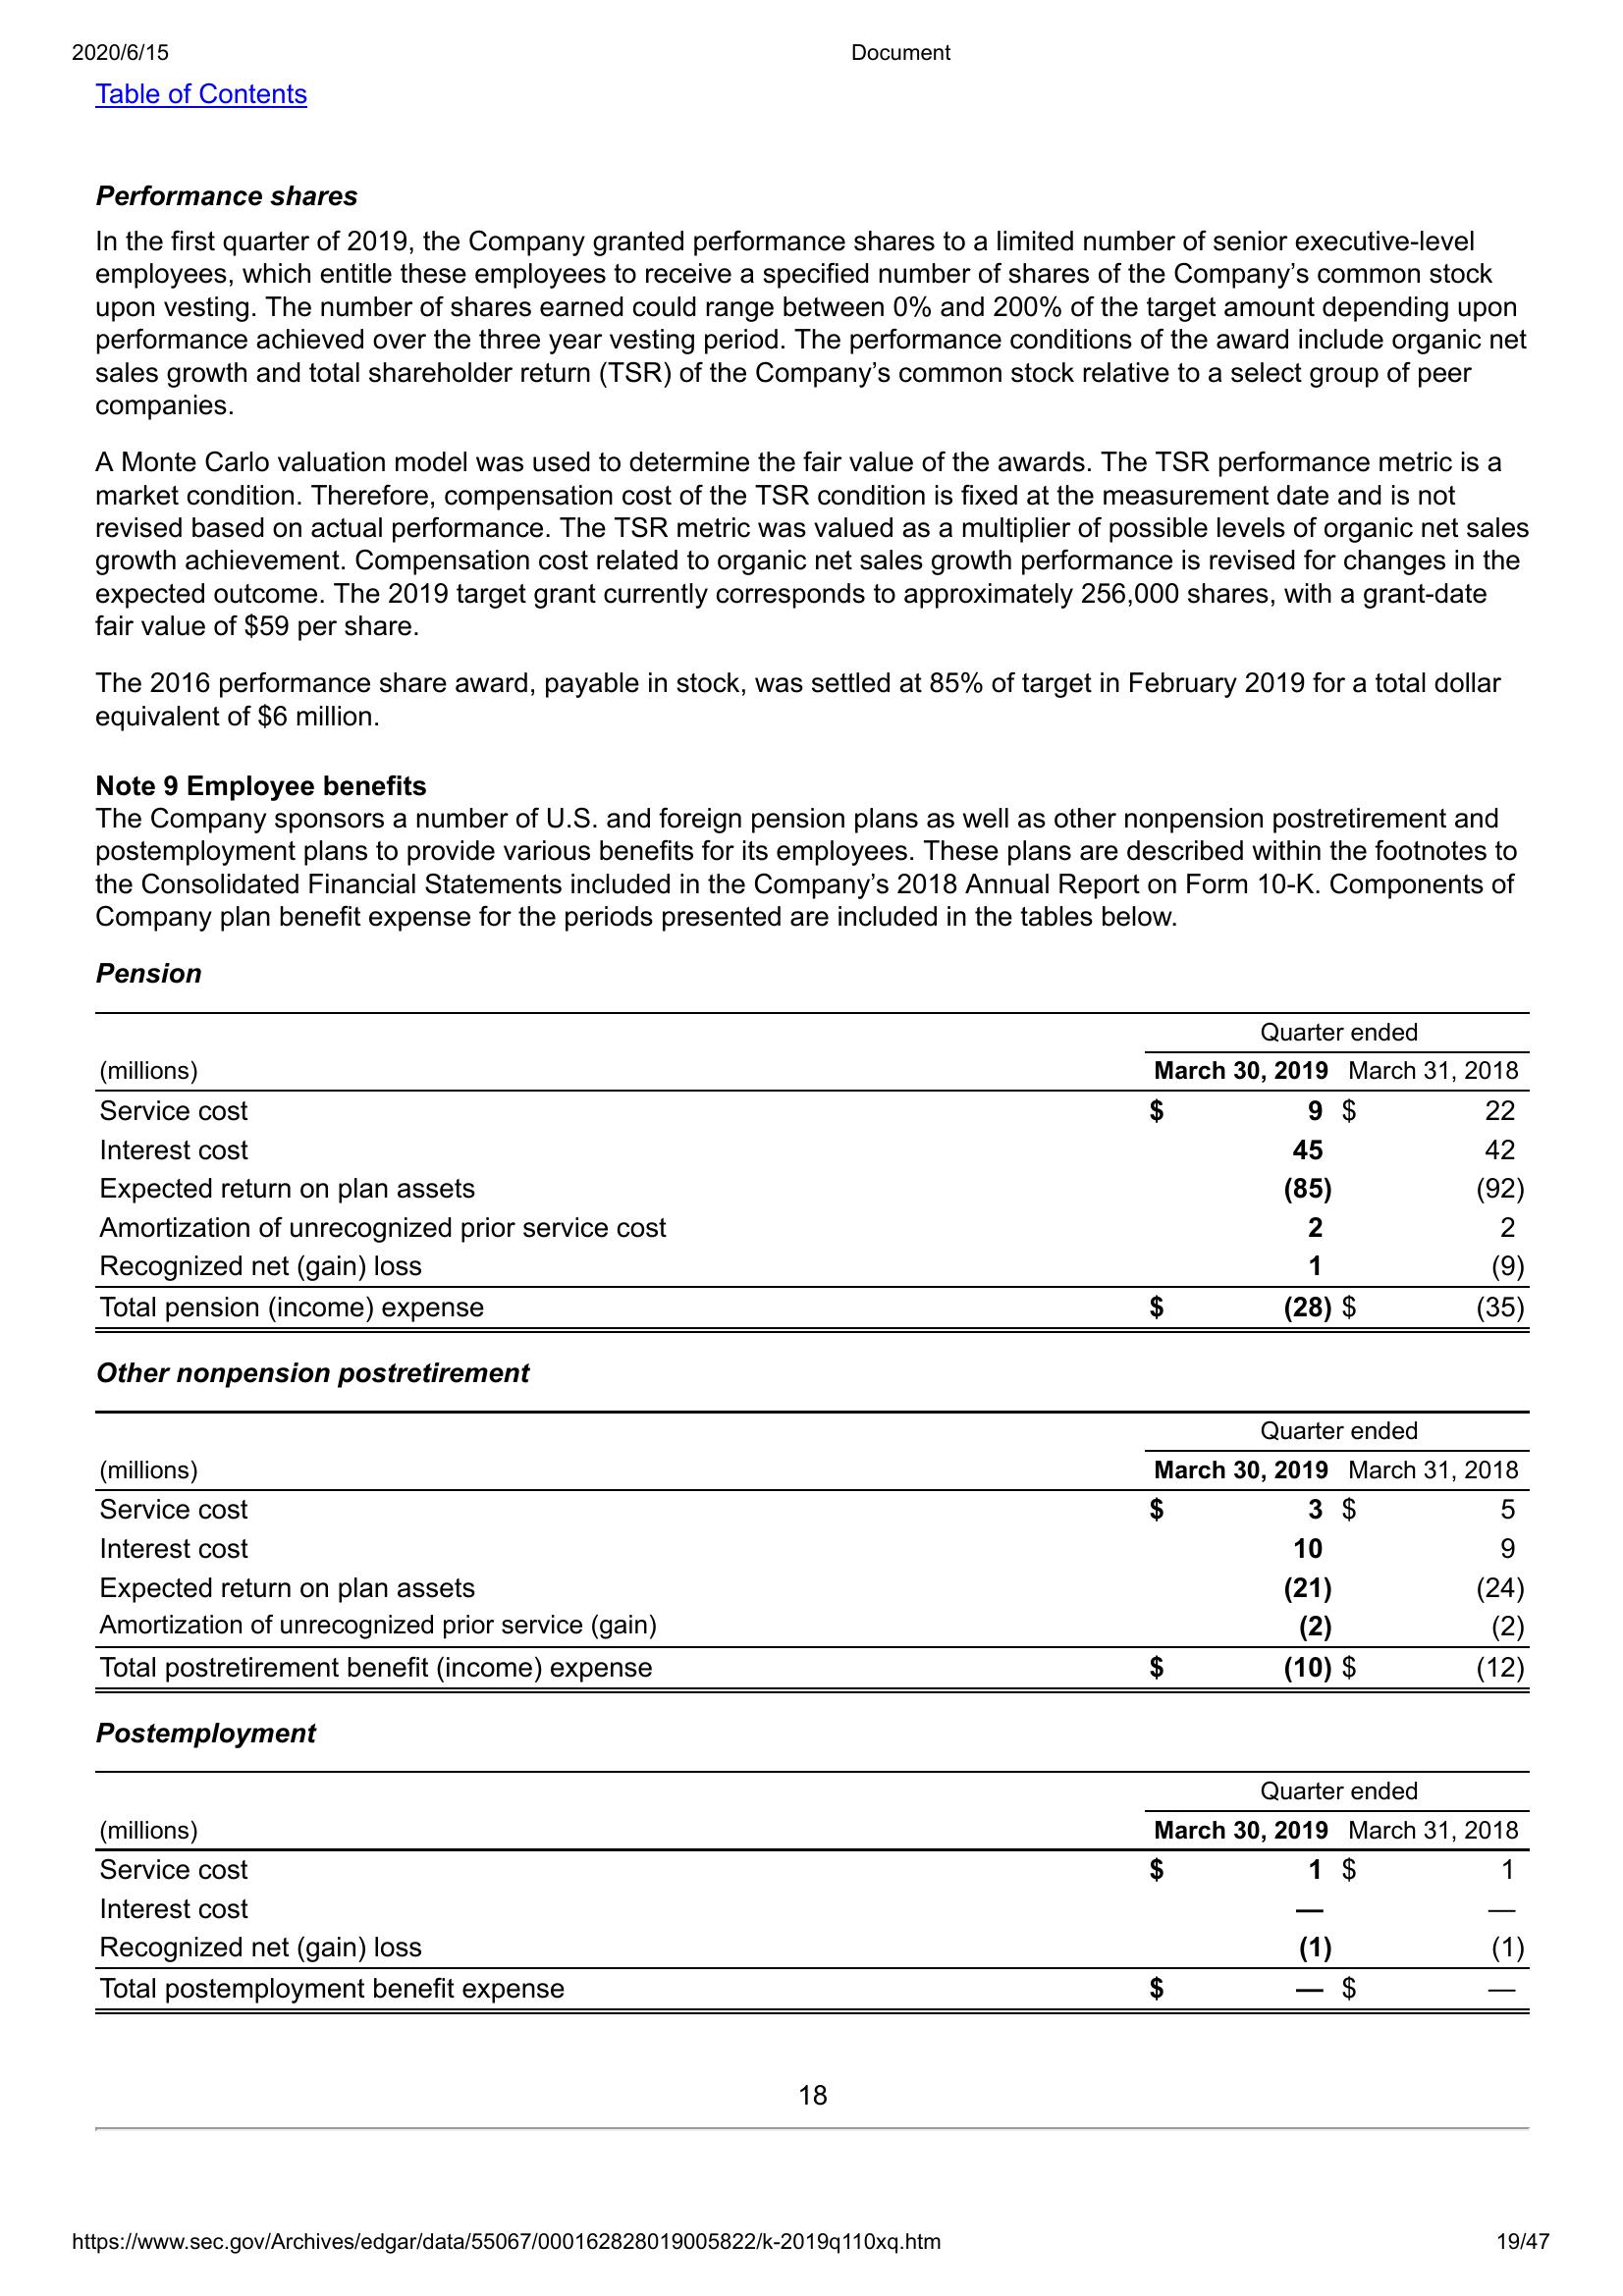table: (90, 1004, 1537, 1336), (95, 1406, 1533, 1697), (88, 1764, 1537, 2020)
